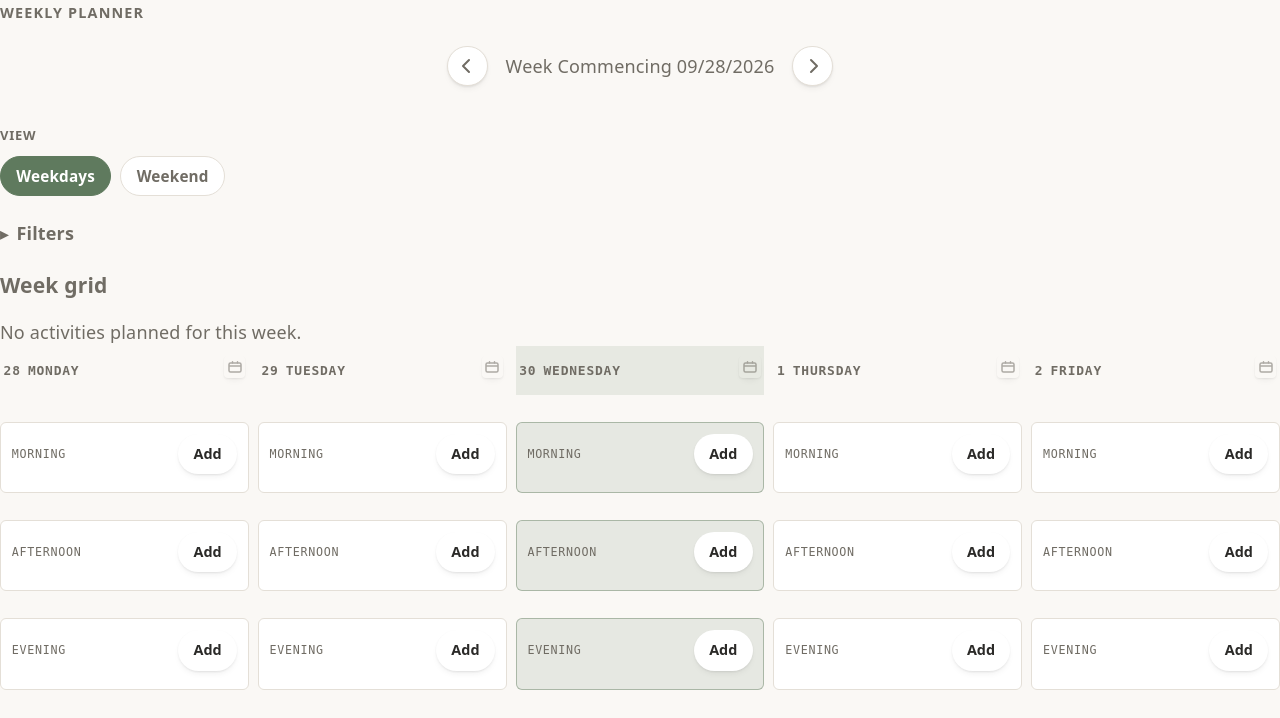
Scenario: WeeklyPlanner › FRONTEND-004-AC-20/AC-21/AC-22: assign picker lists activities+sub-tasks, creates on confirm › creates a scheduled occurrence from a picked activity and closes the picker
Click the 1st button "Add" at (208, 454), box x1=178 y1=434 x2=237 y2=474
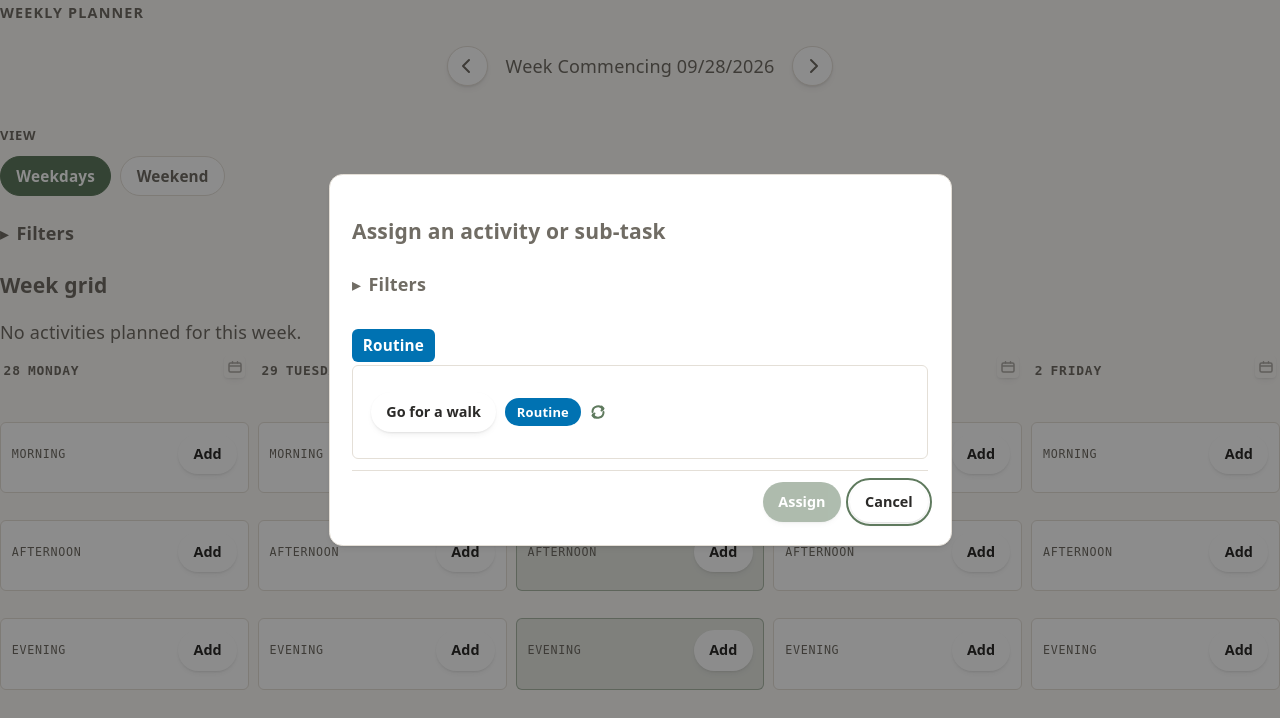
Click the button "Go for a walk" at (434, 412), box x1=371 y1=392 x2=496 y2=432
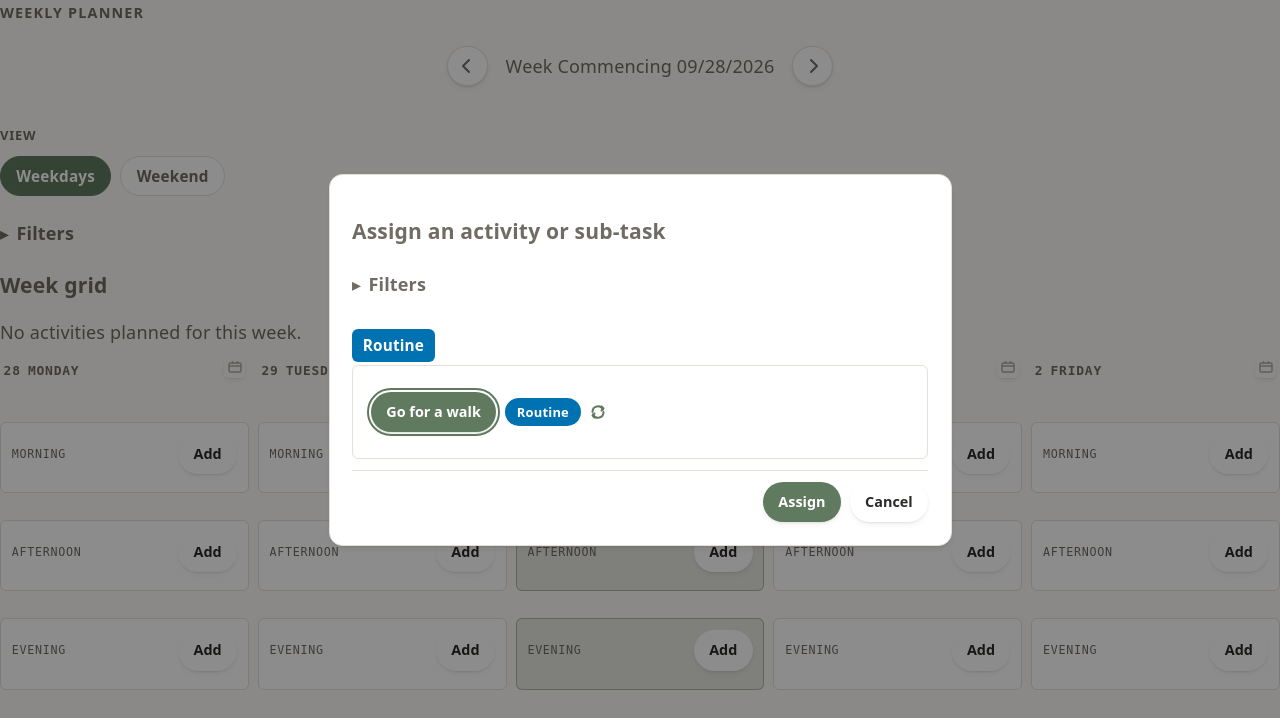
Click the button "Assign" at (802, 502), box x1=763 y1=482 x2=841 y2=522
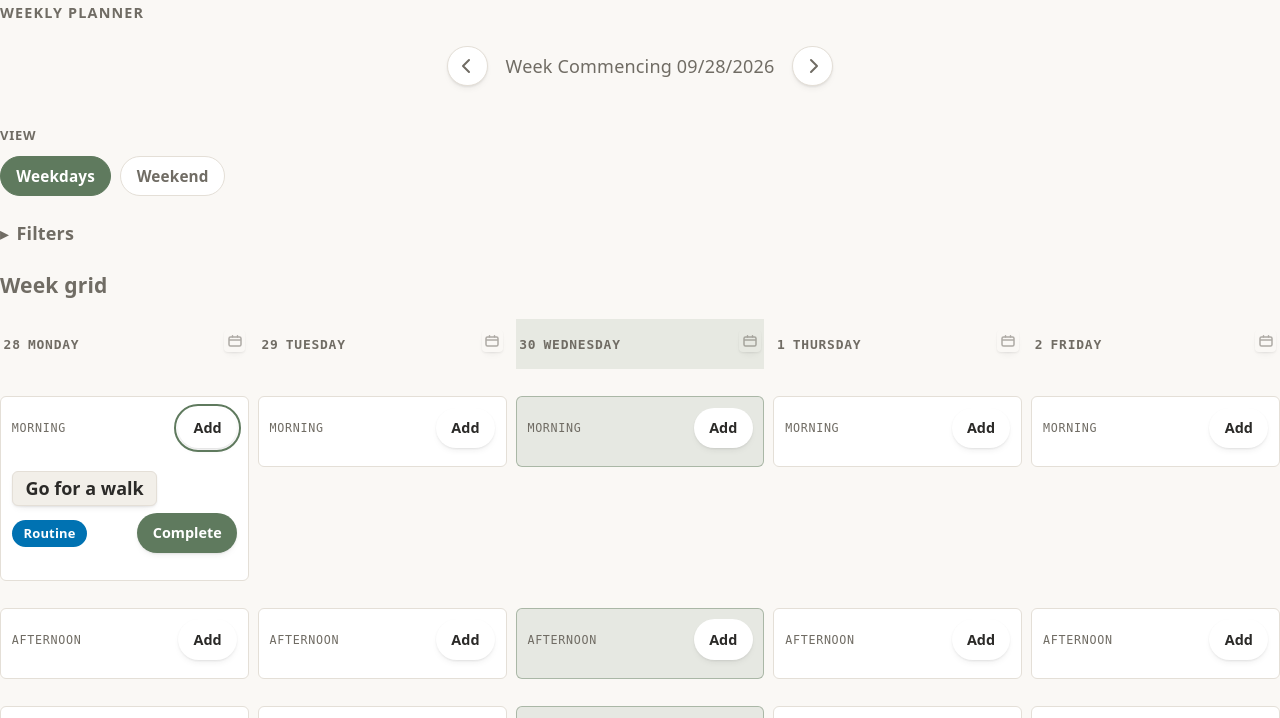
Check: the button "Go for a walk" is shown, box x1=12 y1=470 x2=157 y2=506
Check: the dialog is gone
